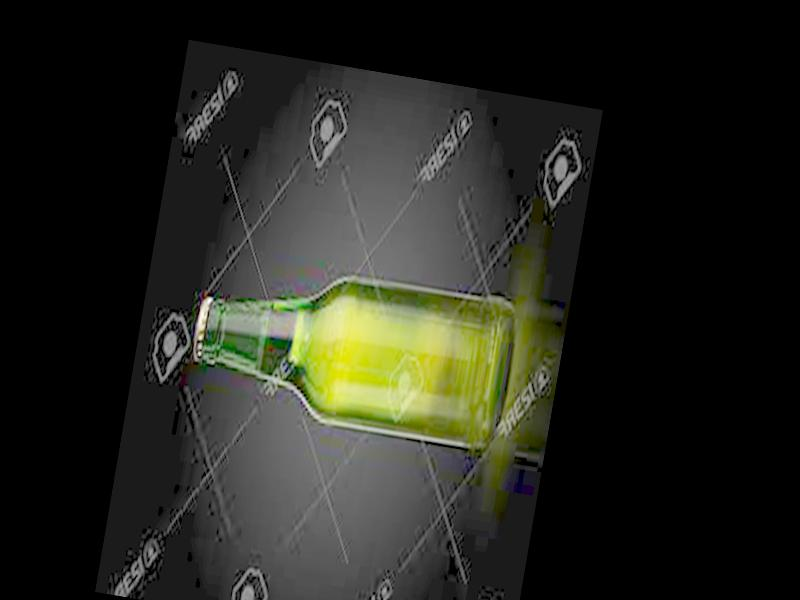Beer: (183, 254, 518, 455)
